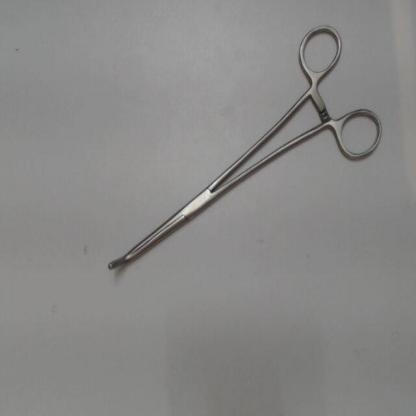Lahey Forceps: (97, 5, 384, 288)
